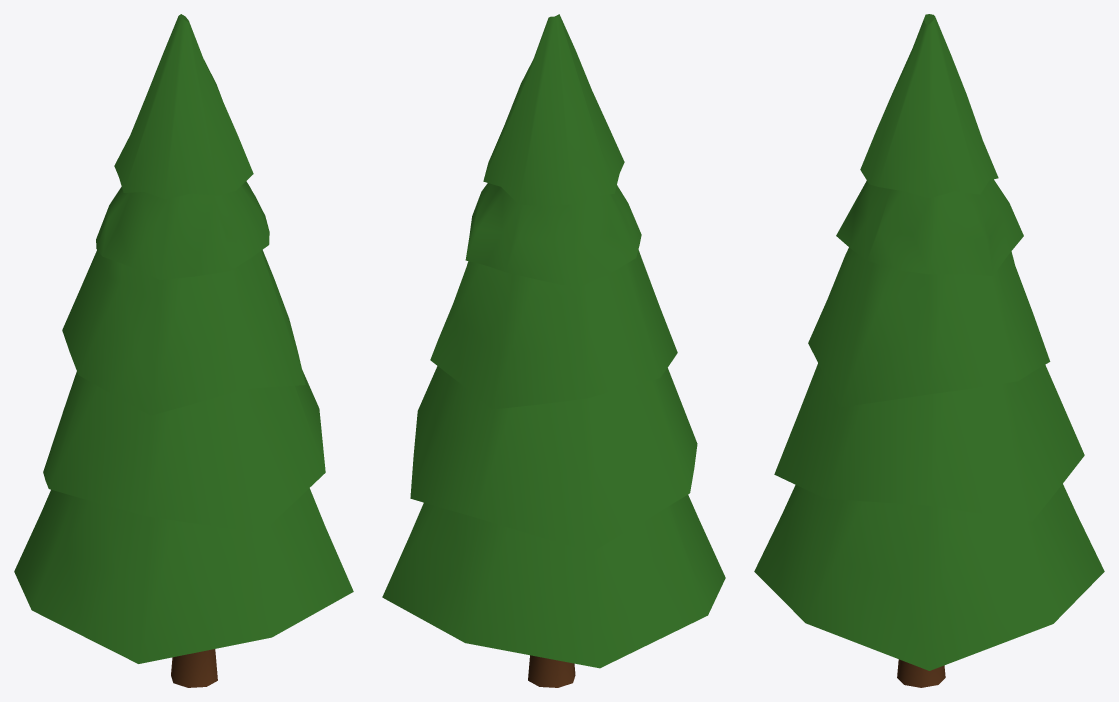
The model's file is PineTree.FBX.
The picture shows the model from 3 angles, left to right: view 1: azimuth 30°, elevation 25°; view 2: azimuth 150°, elevation 25°; view 3: azimuth 270°, elevation 25°; orthographic projection.
Visible parts, largest first — view 1: Cylinder010; view 2: Cylinder010; view 3: Cylinder010.
Part boxes in pixels (x1,y1,x2,y2): Cylinder010: (14, 14, 353, 687); Cylinder010: (382, 14, 725, 687); Cylinder010: (754, 14, 1104, 687).
Size of the model in its own units: 63.08 by 131 by 63.08.
